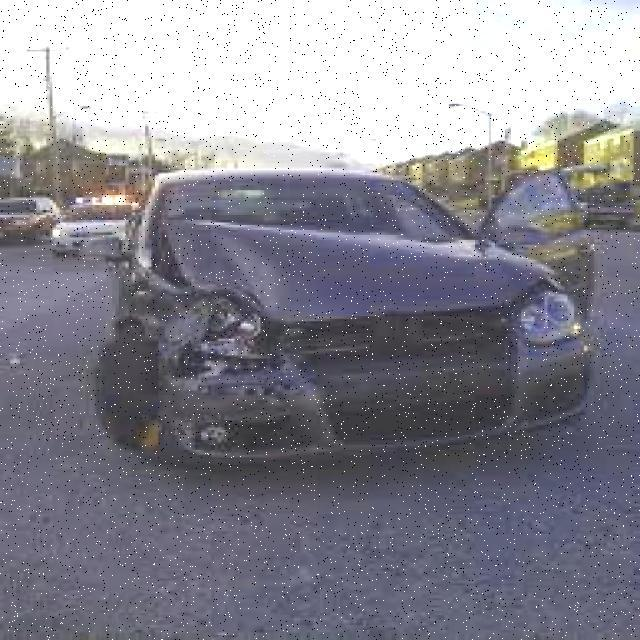car damage: (115, 221, 555, 468)
